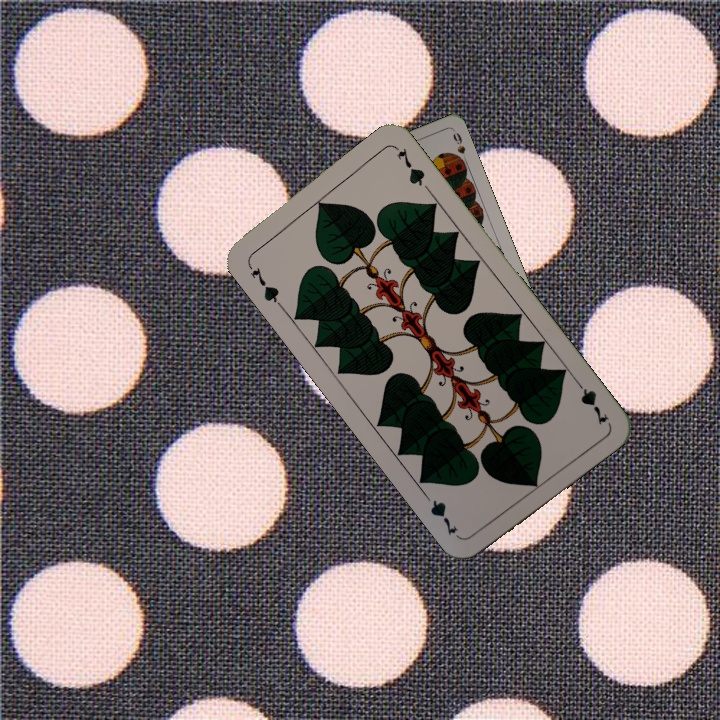G7: (570, 374, 611, 428), (244, 259, 284, 310)
